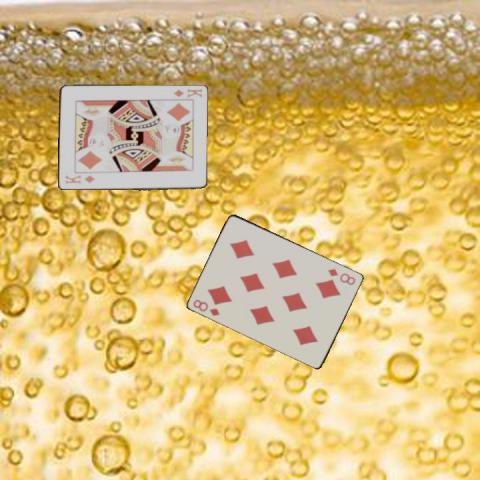8d: (325, 265, 357, 287), (190, 296, 221, 317)
Kd: (62, 172, 96, 185), (171, 86, 203, 99)
